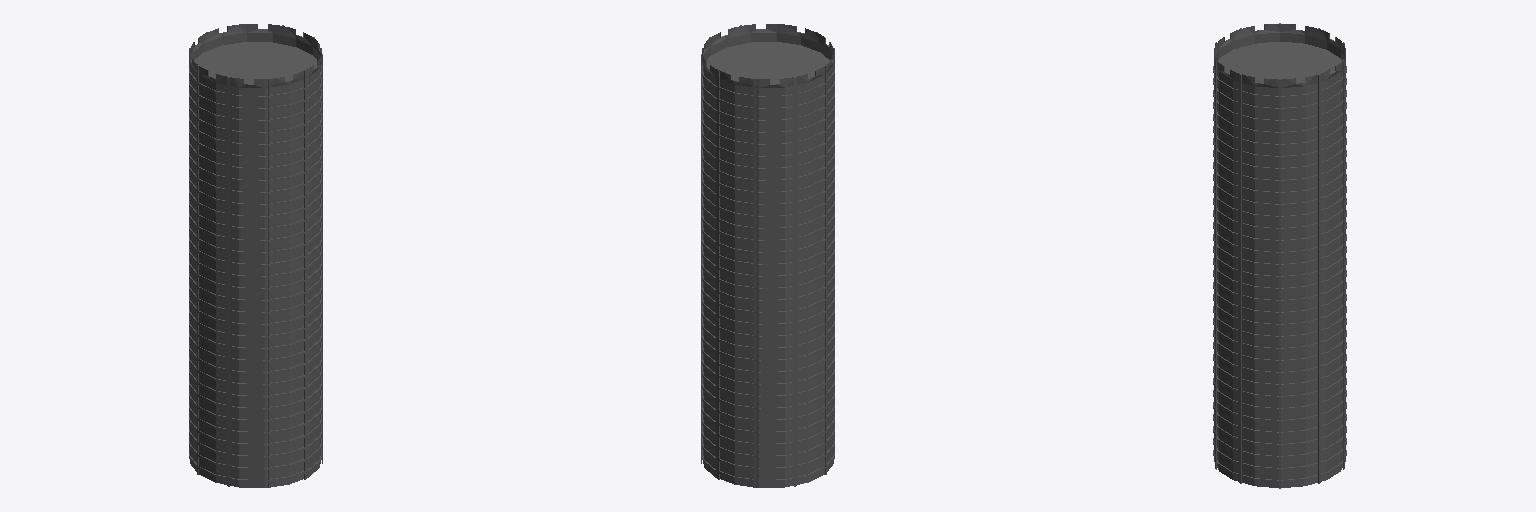
Rendered from building4.obj.
The picture shows the model from 3 angles: view 1: azimuth 30°, elevation 25°; view 2: azimuth 150°, elevation 25°; view 3: azimuth 270°, elevation 25°; orthographic projection.
Parts seen in each view (by area): view 1: group1 Sky007_glaz_01, group1 Sky007_columns_01, group1 Sky007_wall_01, group1 Sky007_slab_new_01; view 2: group1 Sky007_glaz_01, group1 Sky007_columns_01, group1 Sky007_wall_01, group1 Sky007_slab_new_01; view 3: group1 Sky007_glaz_01, group1 Sky007_columns_01, group1 Sky007_wall_01, group1 Sky007_slab_new_01.
Boxes of the visible parts, x1=… form: group1 Sky007_glaz_01: x1=190, y1=33, x2=321, y2=477; group1 Sky007_columns_01: x1=189, y1=25, x2=322, y2=487; group1 Sky007_wall_01: x1=190, y1=24, x2=321, y2=487; group1 Sky007_slab_new_01: x1=194, y1=42, x2=316, y2=83; group1 Sky007_glaz_01: x1=702, y1=33, x2=833, y2=477; group1 Sky007_columns_01: x1=701, y1=25, x2=834, y2=487; group1 Sky007_wall_01: x1=702, y1=24, x2=833, y2=487; group1 Sky007_slab_new_01: x1=707, y1=42, x2=829, y2=83; group1 Sky007_glaz_01: x1=1214, y1=33, x2=1345, y2=477; group1 Sky007_columns_01: x1=1213, y1=23, x2=1346, y2=488; group1 Sky007_wall_01: x1=1214, y1=24, x2=1345, y2=487; group1 Sky007_slab_new_01: x1=1218, y1=42, x2=1341, y2=82.
Bounding box in the file's own units: 520 × 1737 × 520.